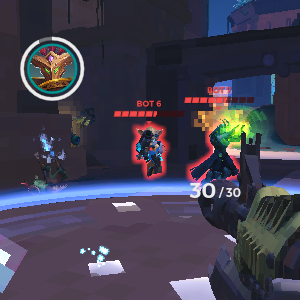model: (189, 115, 244, 190), (129, 123, 170, 180)
